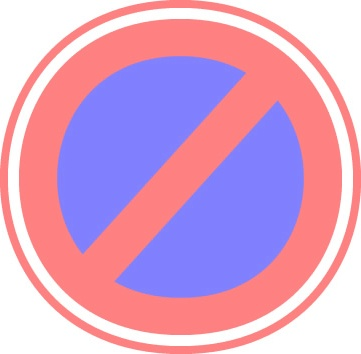Prohibition_sign: (5, 3, 361, 351)
